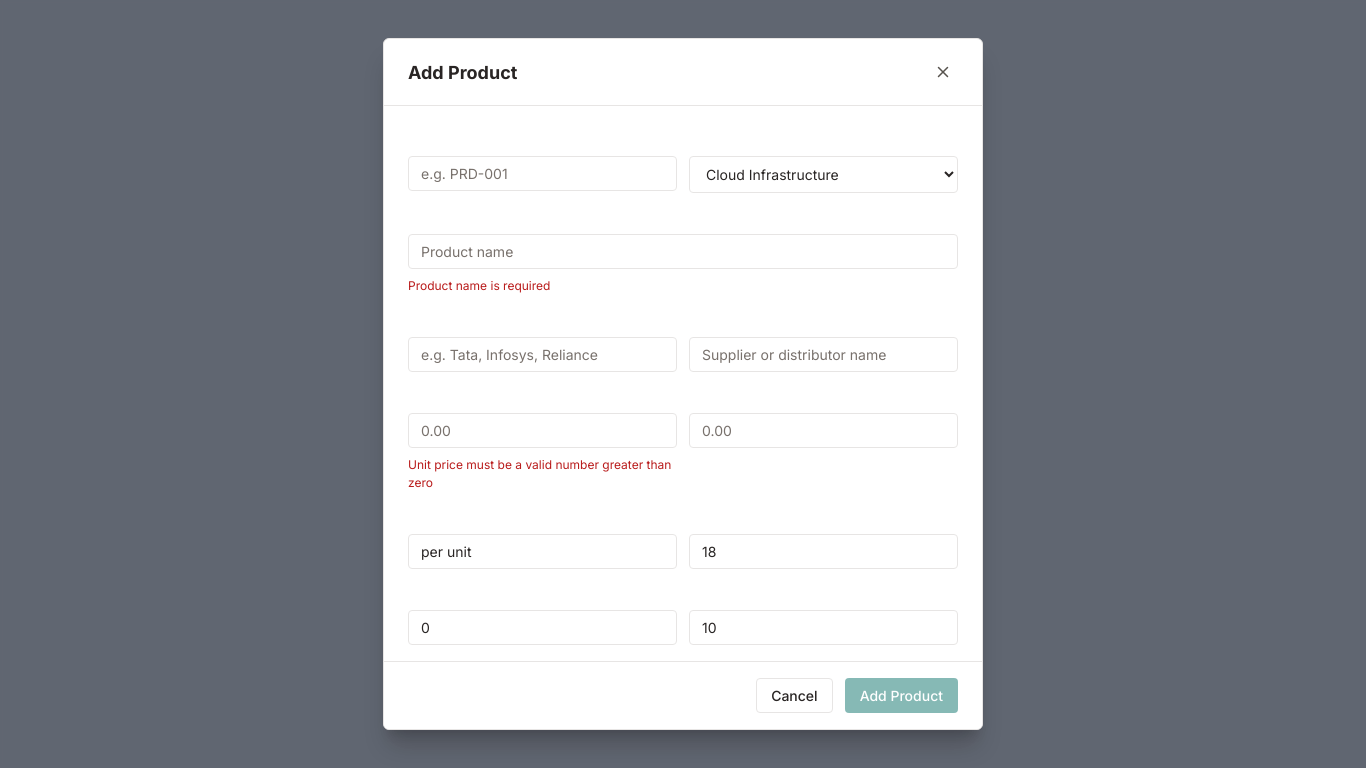
Test: Frontend Input Validation & Boundaries › 2. Add / Edit Product Form Validation › enforces maxLength, auto uppercase, and counter limits
The width and height of the screenshot is (1366, 768).
Step 1. Type "cld-001" into the field labelled "Product Code" → (542,173), box [408,156,677,191]
(page scrolled)
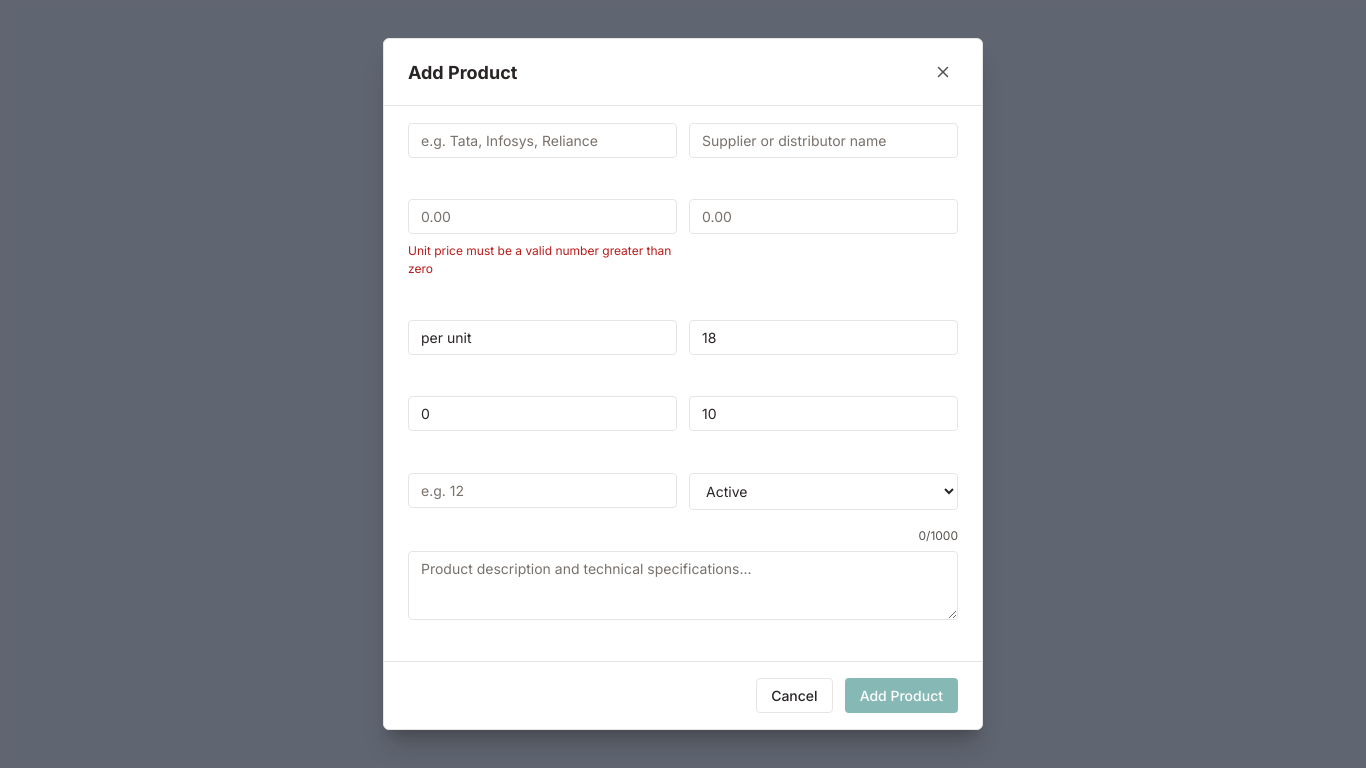
Expected: the text "0/1000" is shown, [918,527,958,545]
Step 2. Type "Testing character counter live updates" into the text box labelled "Description" → (683,586), box [408,551,958,620]
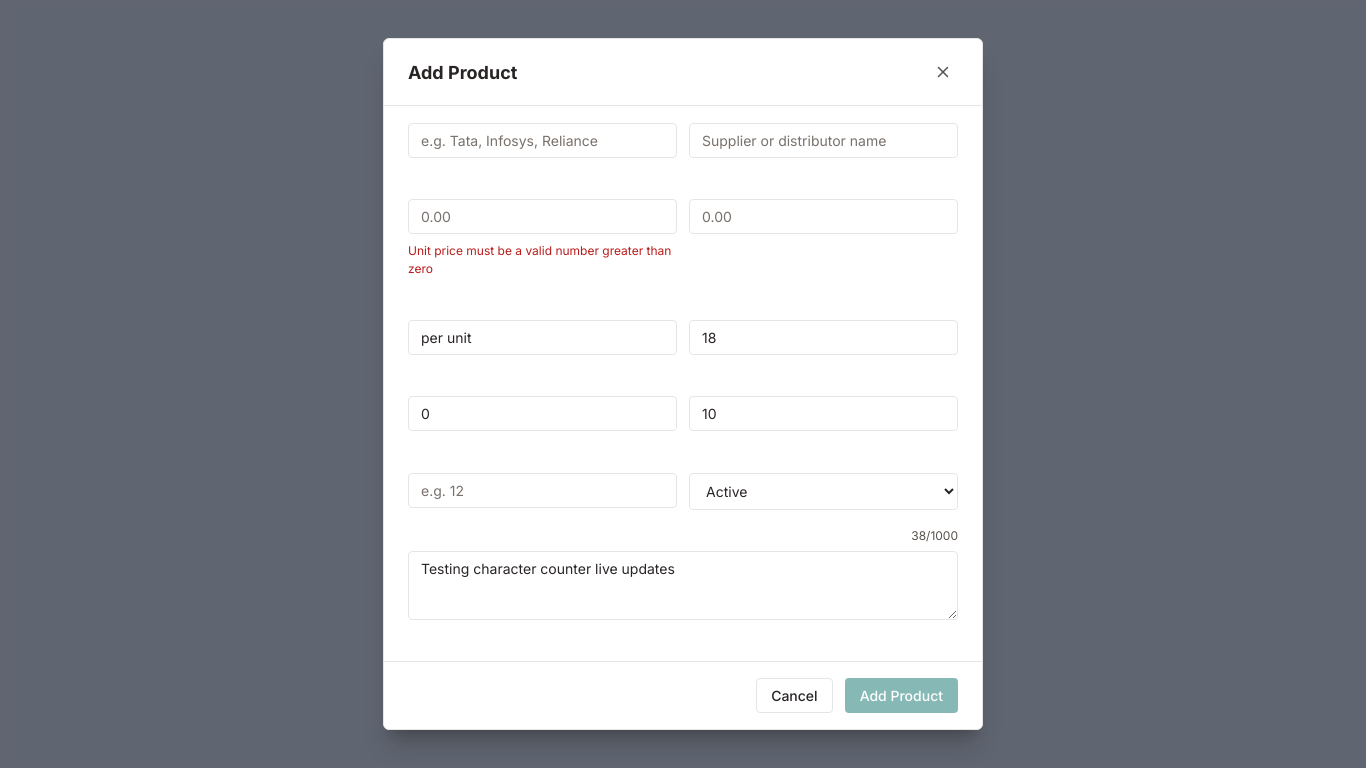
Expected: the text "38/1000" is shown, [911,527,958,545]
